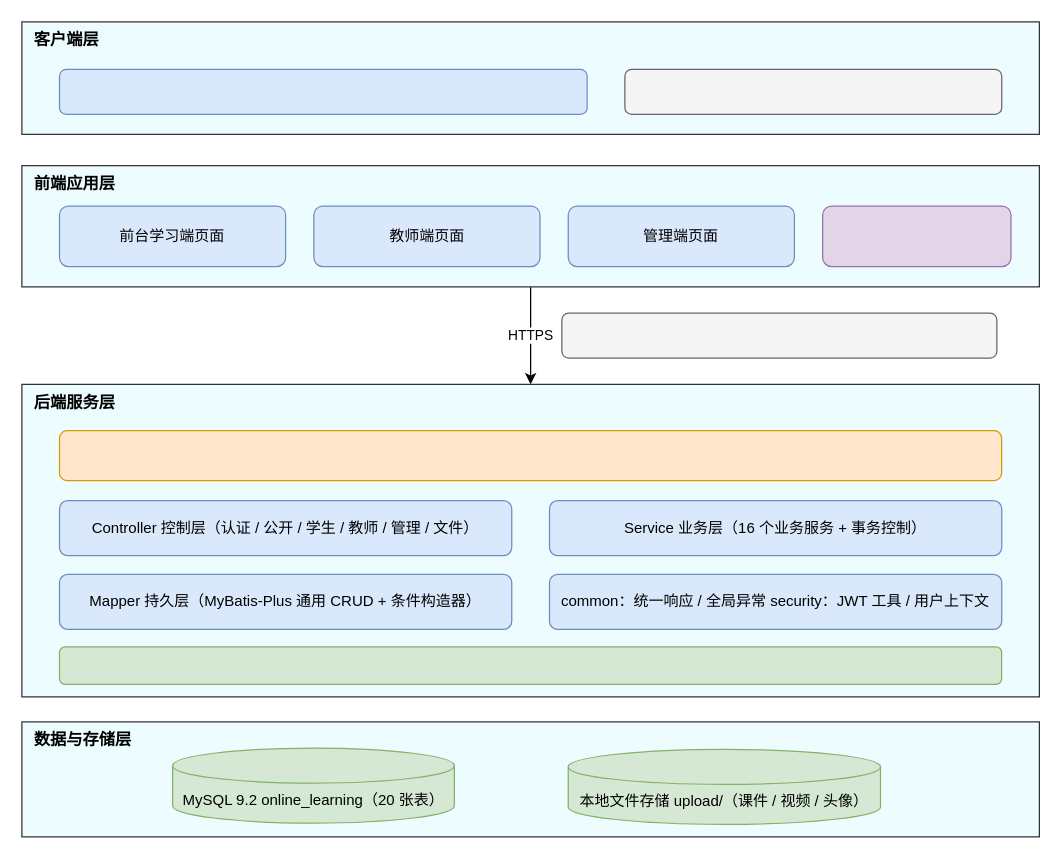
This 1061x859 diagram has some shape labels left out. The shapes that lost their labels are listed below. From the top down, each one's centre as x and y in pixels, then its label:
At point (322, 91): "桌面浏览器（Chrome / Edge 等，无需插件）".
At point (813, 91): "演示账号：学生 / 教师 / 管理员三种角色会话".
At point (916, 236): "Router / Pinia / Axios / Element Plus / 主题样式".
At point (779, 335): "RESTful API（HTTP + JSON） 请求头携带 JWT Token".
At point (530, 455): "跨域配置 / JWT 认证拦截器 / @RequireRole 角色鉴权".
At point (530, 665): "Apache POI 课件解析 Excel 导入导出 Word 导出 文件服务".
